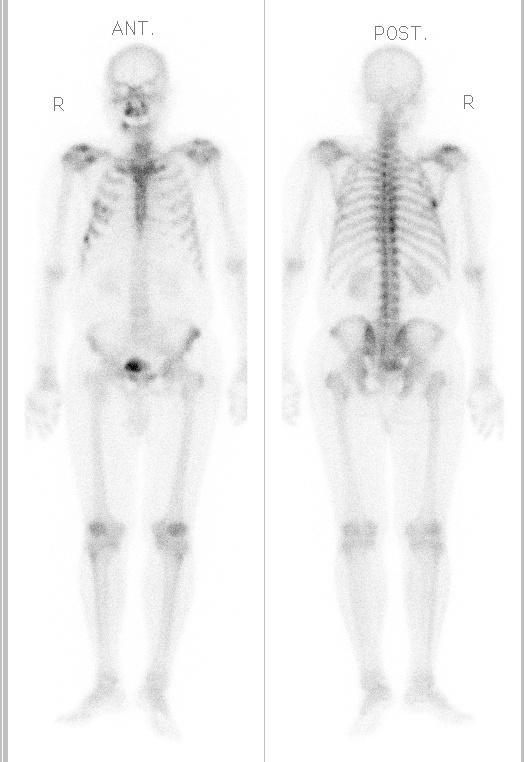person: (5, 1, 519, 762)
